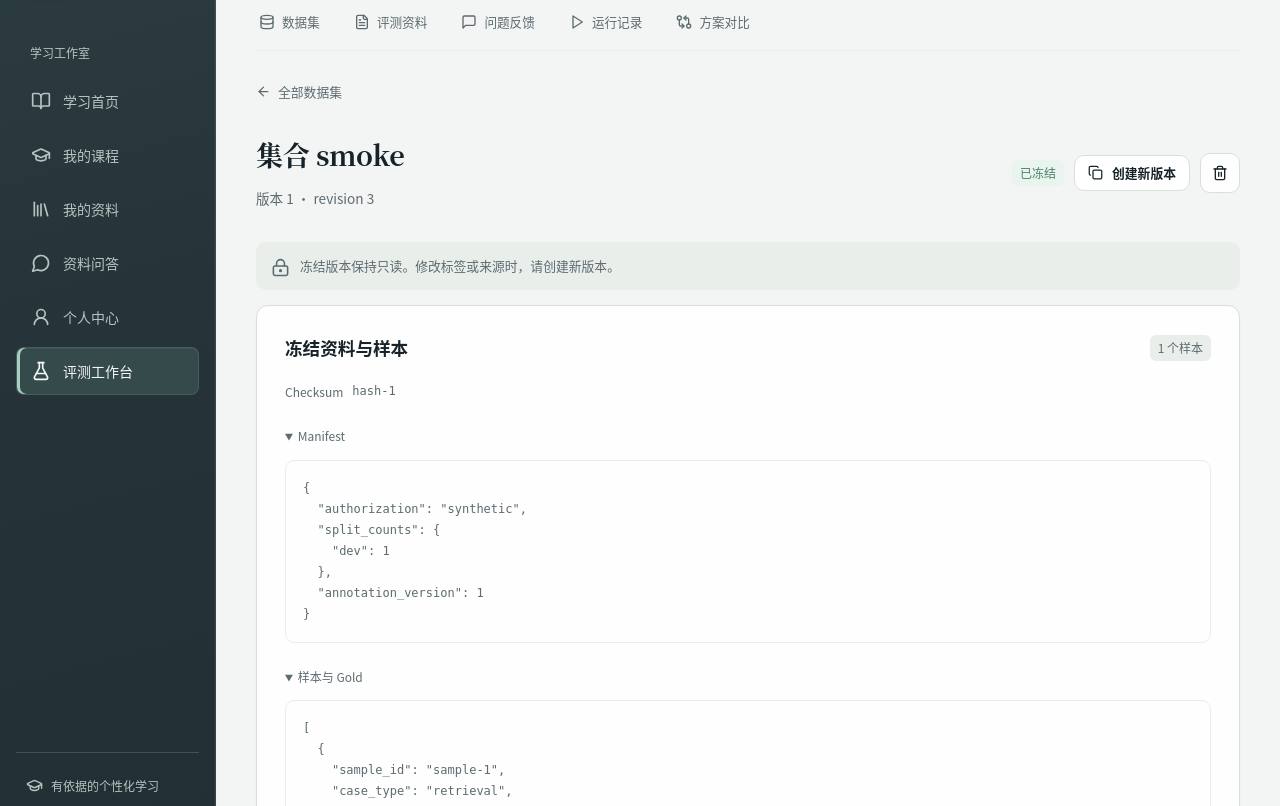
evaluation workbench › makes frozen versions read-only and creates a new version for edits
Check: the heading "集合 smoke" is shown, box [256, 135, 404, 176]
Check: the button "保存草稿" is not shown
What coordinates should you click on to do the following:
click the button "创建新版本"
I would click on:
 (1132, 173)
Its box is [1074, 155, 1190, 191].
(page scrolled)
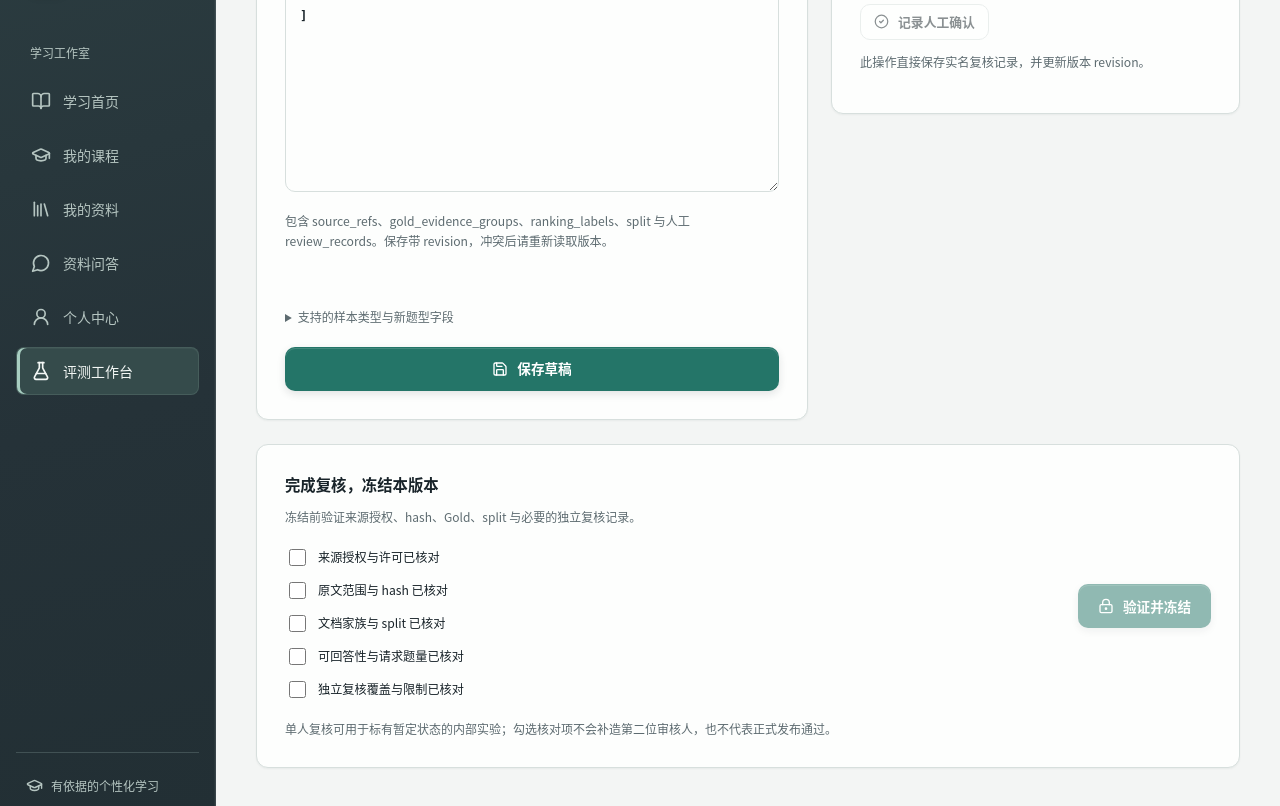
Check: the button "保存草稿" is shown, box [285, 347, 779, 391]
